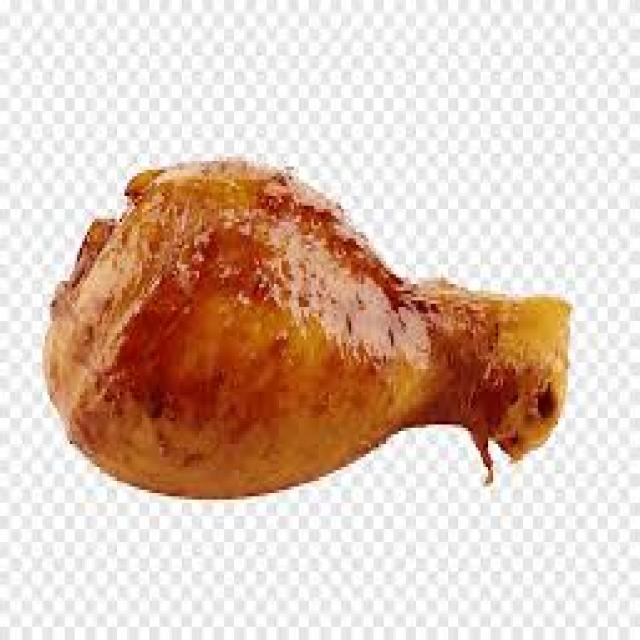Frango: (42, 154, 576, 506)
